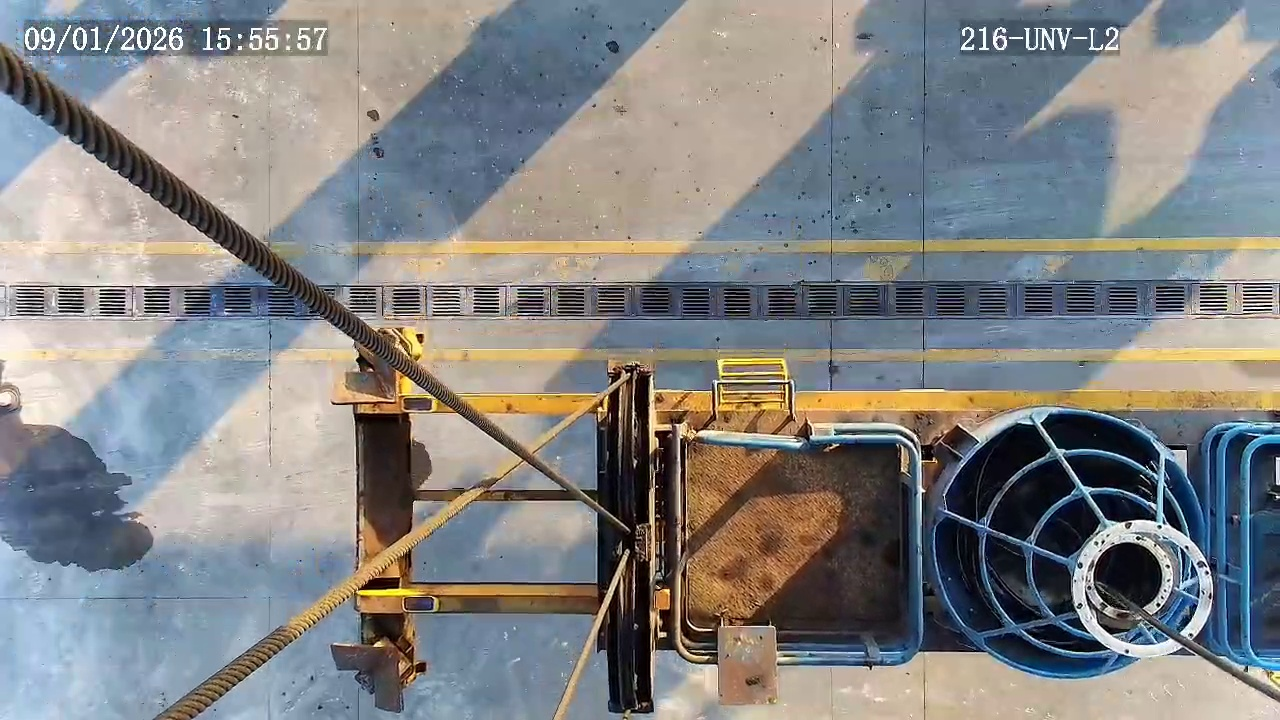left: (933, 411, 1209, 679)
